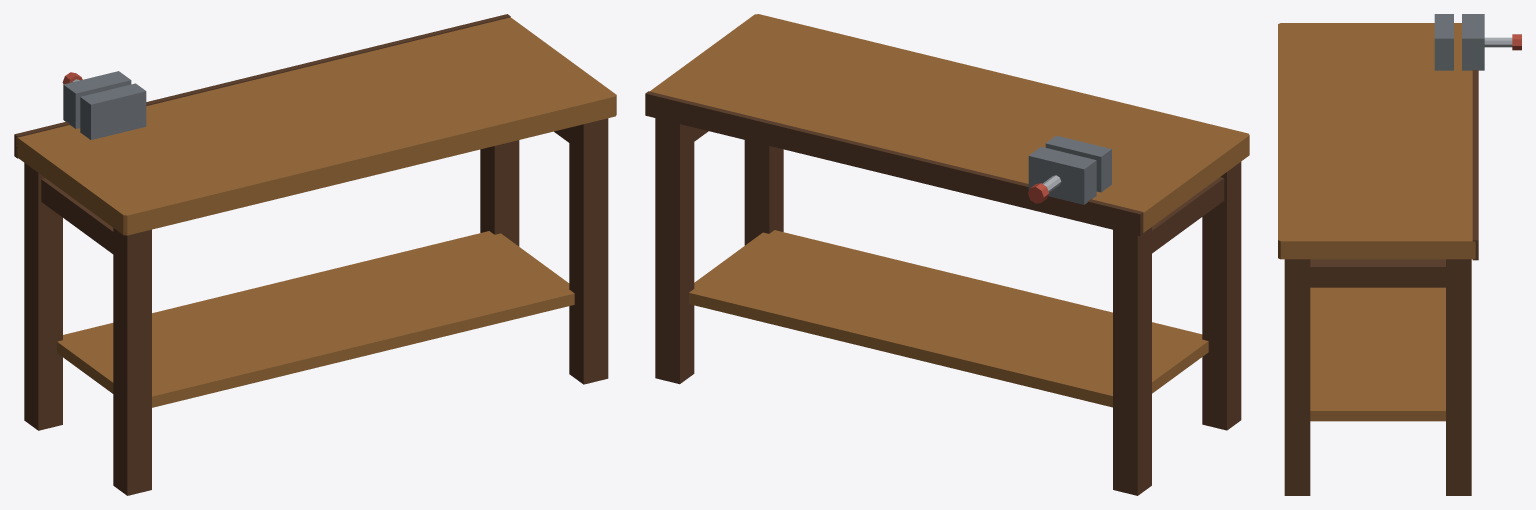
Rendered from SM_LPI_Util_Workbench_01.fbx.
3 renders of one model, left to right at view 1: azimuth 30°, elevation 25°; view 2: azimuth 150°, elevation 25°; view 3: azimuth 270°, elevation 25°, orthographic. The views are drawn at different scales.
Visible parts, largest first — view 1: SM_LPI_Util_Workbench_01; view 2: SM_LPI_Util_Workbench_01; view 3: SM_LPI_Util_Workbench_01.
Boxes of the visible parts, x1=… form: SM_LPI_Util_Workbench_01: x1=14, y1=14, x2=616, y2=495; SM_LPI_Util_Workbench_01: x1=645, y1=14, x2=1249, y2=495; SM_LPI_Util_Workbench_01: x1=1278, y1=14, x2=1521, y2=495.
Bounding box in the file's own units: 1.6 × 0.99 × 0.755.
